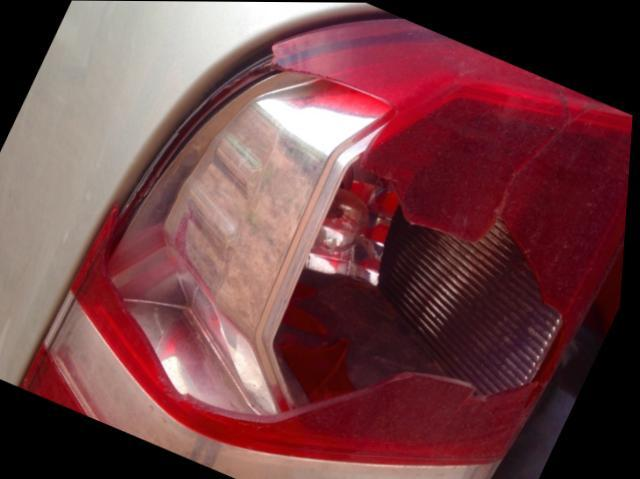lamp broken: (22, 10, 634, 479)
